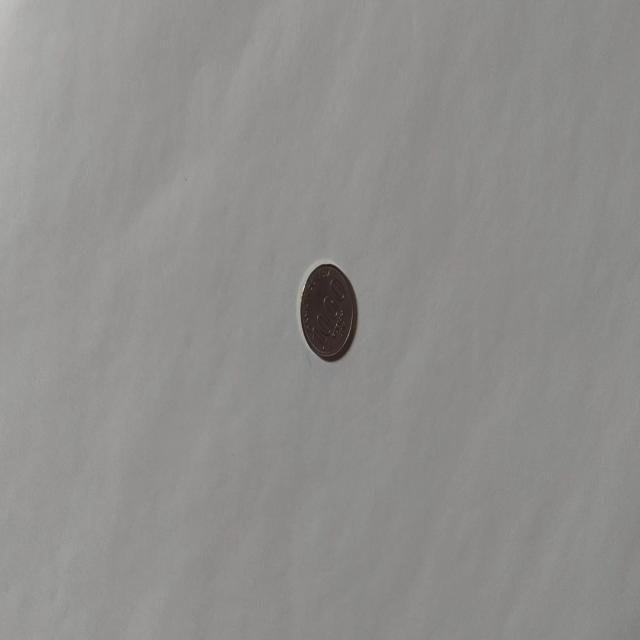seribu rupiah koin: (298, 260, 356, 362)
